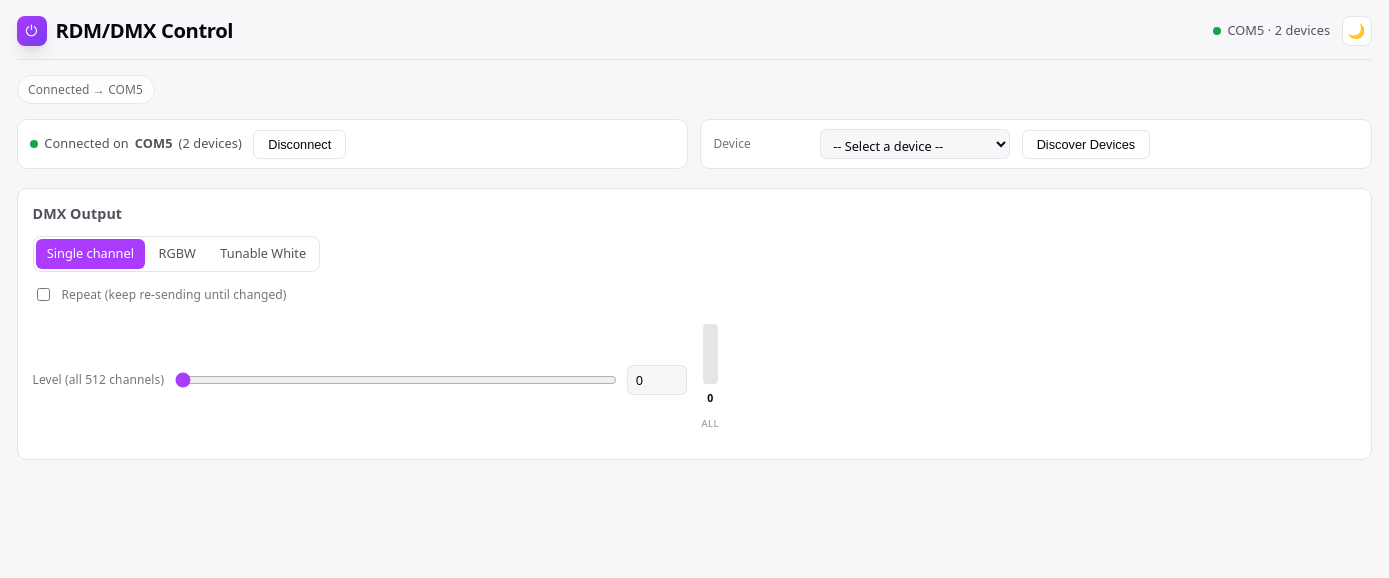
Scenario: App › populates a new dynamic GUI when a different device is selected from the dropdown
Select "Fixture A (454E00000001)" in the dropdown labelled "Device" at (915, 144), box [820, 129, 1010, 159]
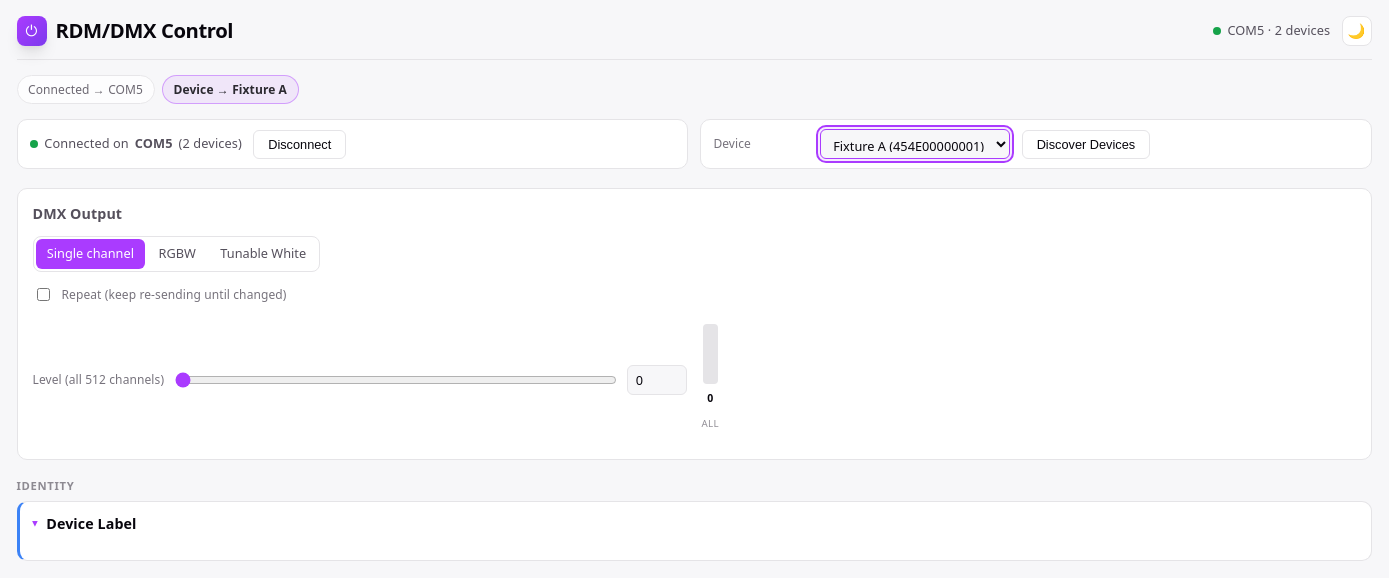
Result: the heading "Device Label" is shown at [46, 514, 136, 533]
Select "Fixture B (454E00000002)" in the dropdown labelled "Device" at (915, 144), box [820, 129, 1010, 159]
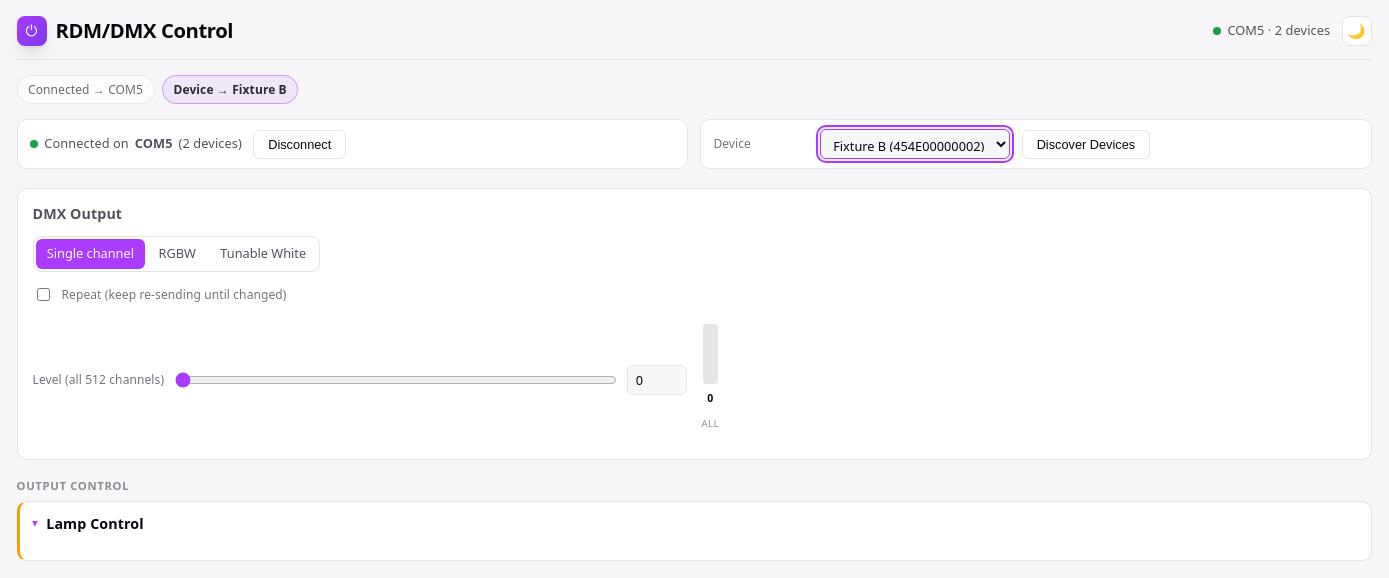
Result: the heading "Lamp Control" is shown at [46, 514, 144, 533]
Result: the heading "Device Label" is gone
